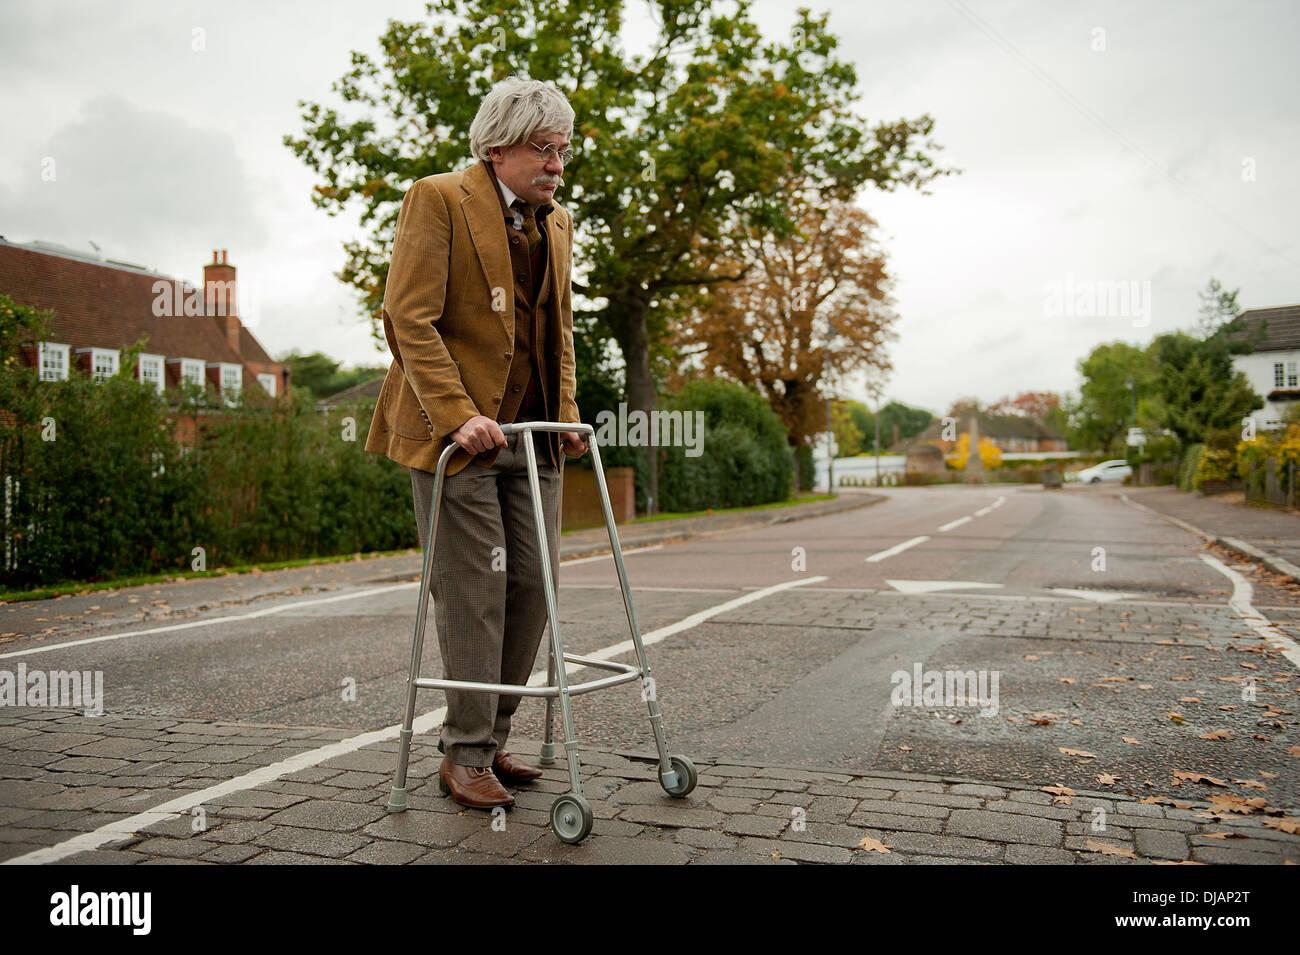walking_frame: (363, 76, 697, 844)
